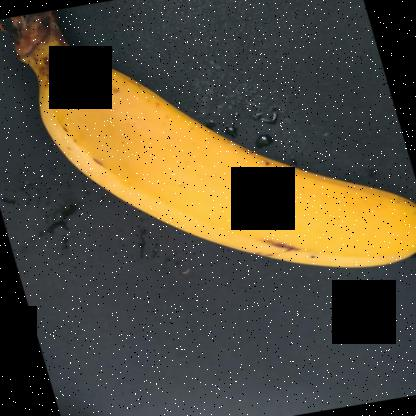freshripe: (26, 38, 415, 283)
